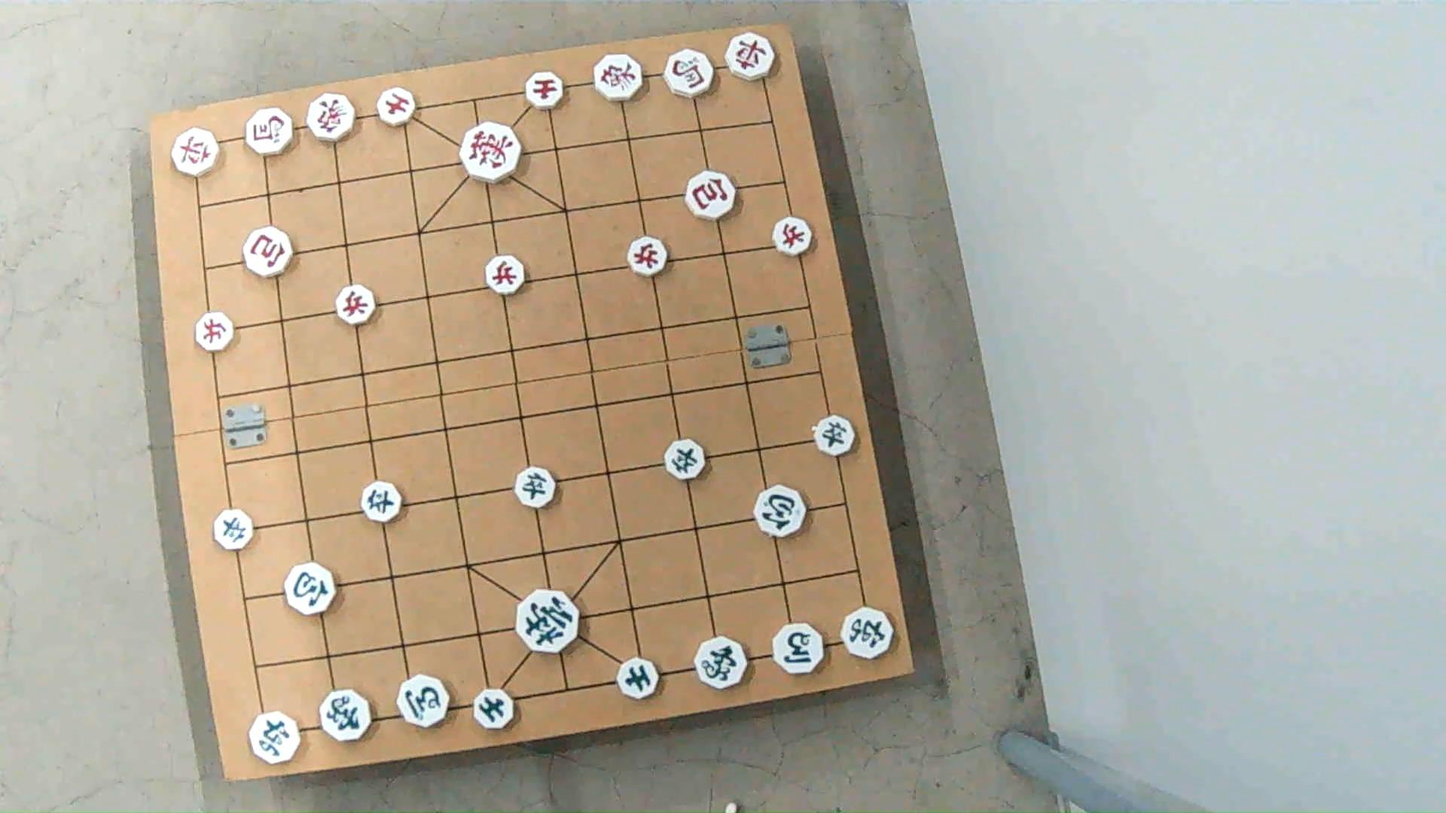cha_green: (840, 606, 892, 660), (247, 712, 300, 761)
cha_red: (725, 34, 776, 79), (172, 129, 219, 174)
jol_green: (359, 483, 404, 522), (810, 418, 856, 456), (515, 468, 558, 508), (662, 440, 704, 479), (212, 511, 253, 549)
jol_red: (196, 312, 236, 351), (627, 239, 668, 277), (485, 257, 526, 294), (773, 218, 814, 255), (334, 288, 374, 325)
ma_green: (398, 672, 450, 730), (773, 626, 826, 675)
ma_red: (244, 109, 294, 155), (664, 51, 715, 96)
po_green: (752, 487, 805, 537), (284, 565, 337, 614)
po_red: (687, 172, 738, 220), (243, 227, 291, 273)
sa_green: (618, 659, 662, 699), (472, 689, 515, 728)
sa_red: (375, 89, 417, 126), (523, 72, 565, 108)
sang_green: (320, 690, 372, 744), (696, 638, 749, 687)
sang_red: (306, 93, 358, 144), (592, 56, 643, 102)
wang_green: (517, 592, 578, 651)
wang_red: (461, 124, 523, 179)
